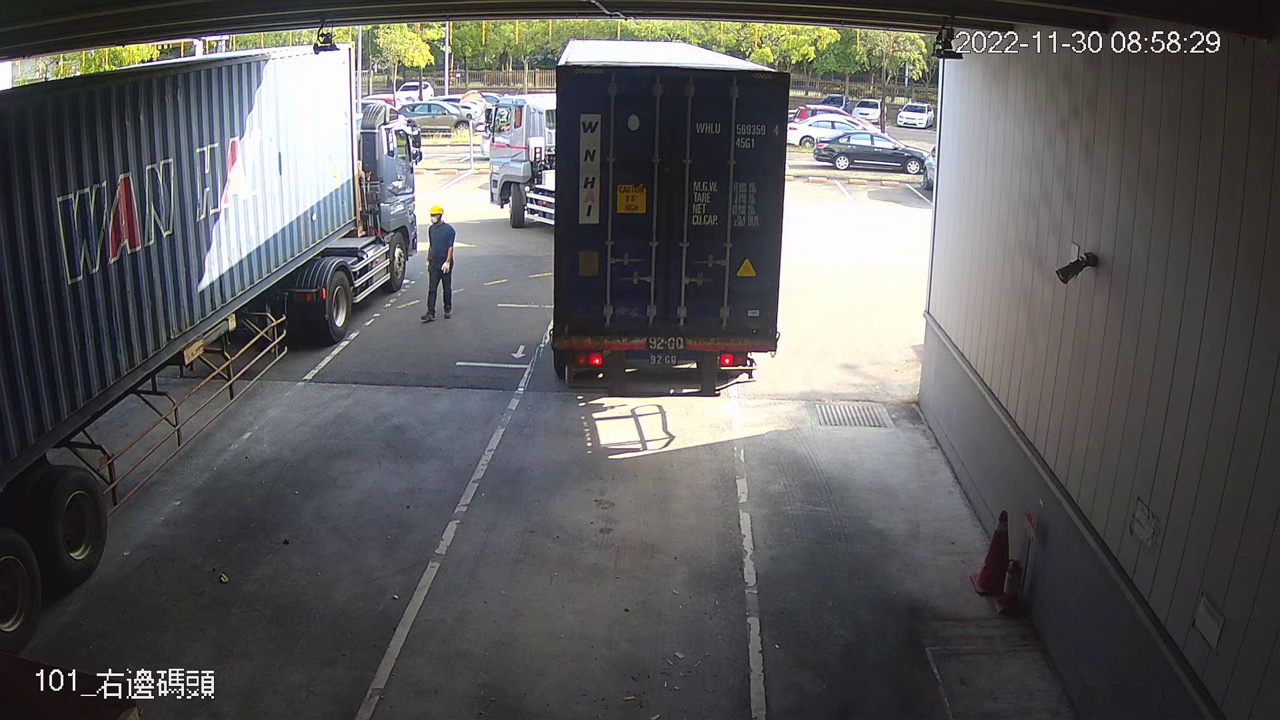container: (691, 115, 783, 153)
